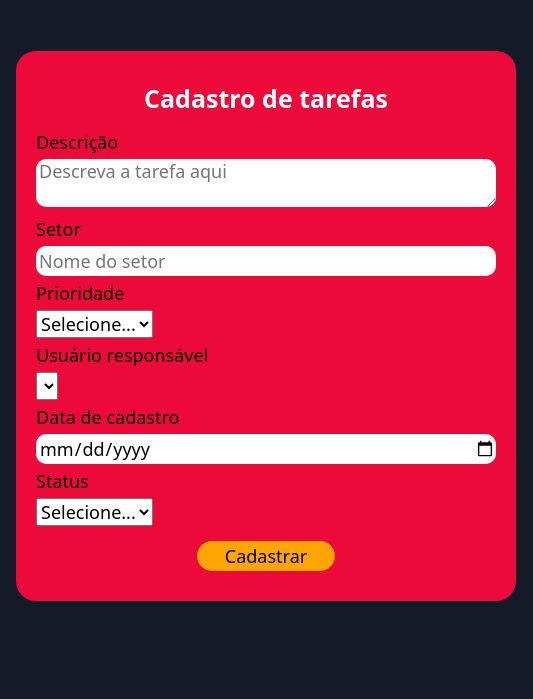
Test: Teste para verificar se há algo escrito na descrição da tarefa › Exibe o erro falando pro usuário digitar algo para a descrição da tarefa
Step 1. Click the button "Cadastrar" → click(266, 556), box [197,541,335,571]
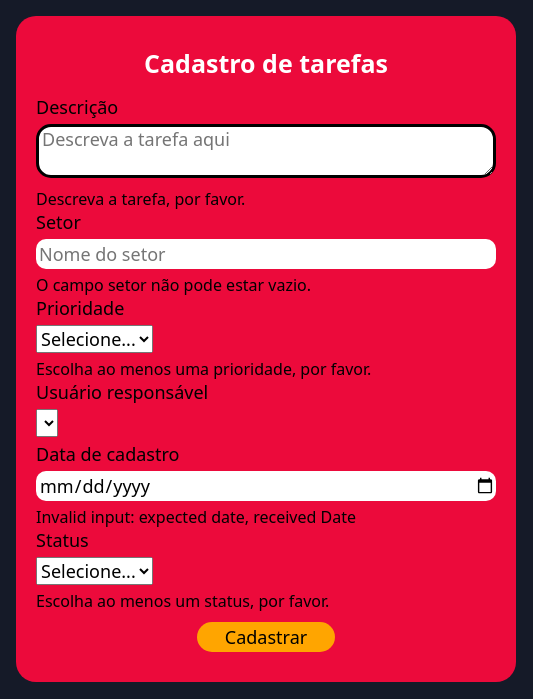
Expected: the text with test id "erroDescricao" reads "Descreva a tarefa, por favor.", [36,188,245,210]
